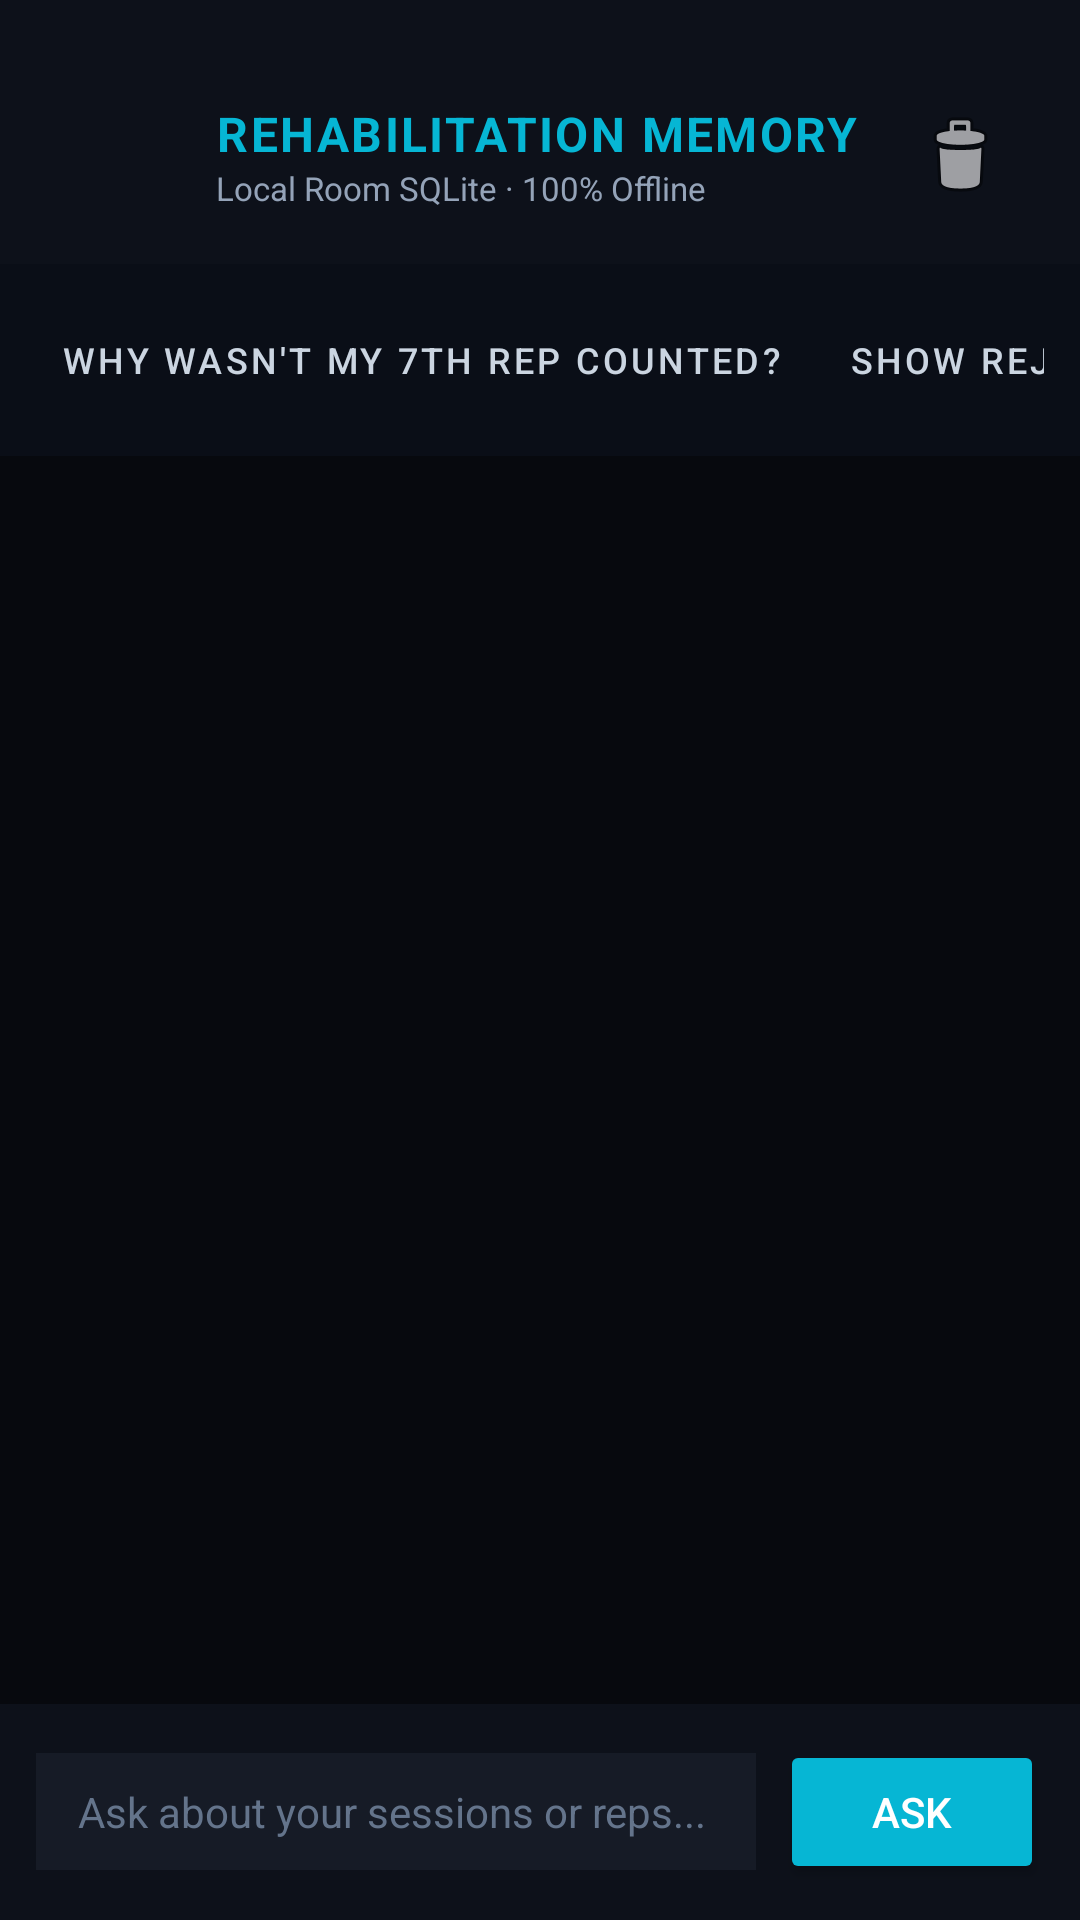

Locate icon controls on the screen. Image size 1080px×1920px, boxes as BBox(x1, y1, x2, y2).
Clear Chat History: BBox(936, 120, 985, 189)
